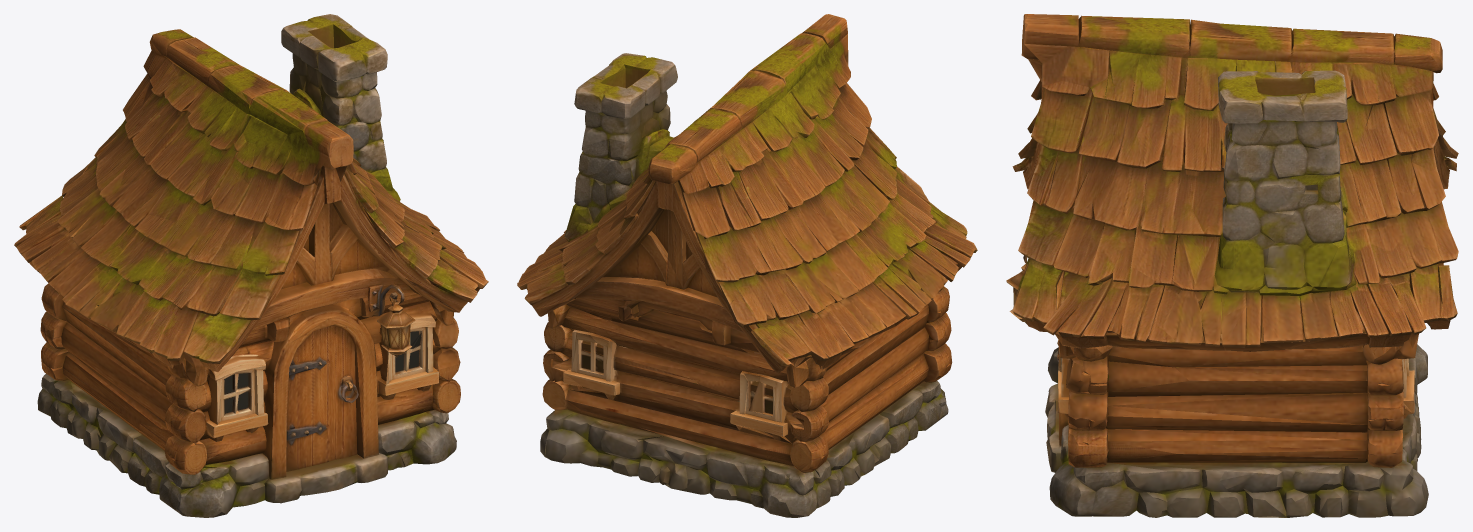
The model's file is ARC-001.glb.
3 views of the same model, side by side, from view 1: azimuth 30°, elevation 25°; view 2: azimuth 150°, elevation 25°; view 3: azimuth 270°, elevation 25° (orthographic). The views are drawn at different scales.
Visible parts, largest first — view 1: ARC-001; view 2: ARC-001; view 3: ARC-001.
Boxes of the visible parts, x1,y1,x2,y2 form: ARC-001: (14,14,488,517); ARC-001: (517,14,977,517); ARC-001: (1006,14,1458,517).
Bounding box in the file's own units: 5.23 × 5 × 4.86.
1 material, 1 textured.
